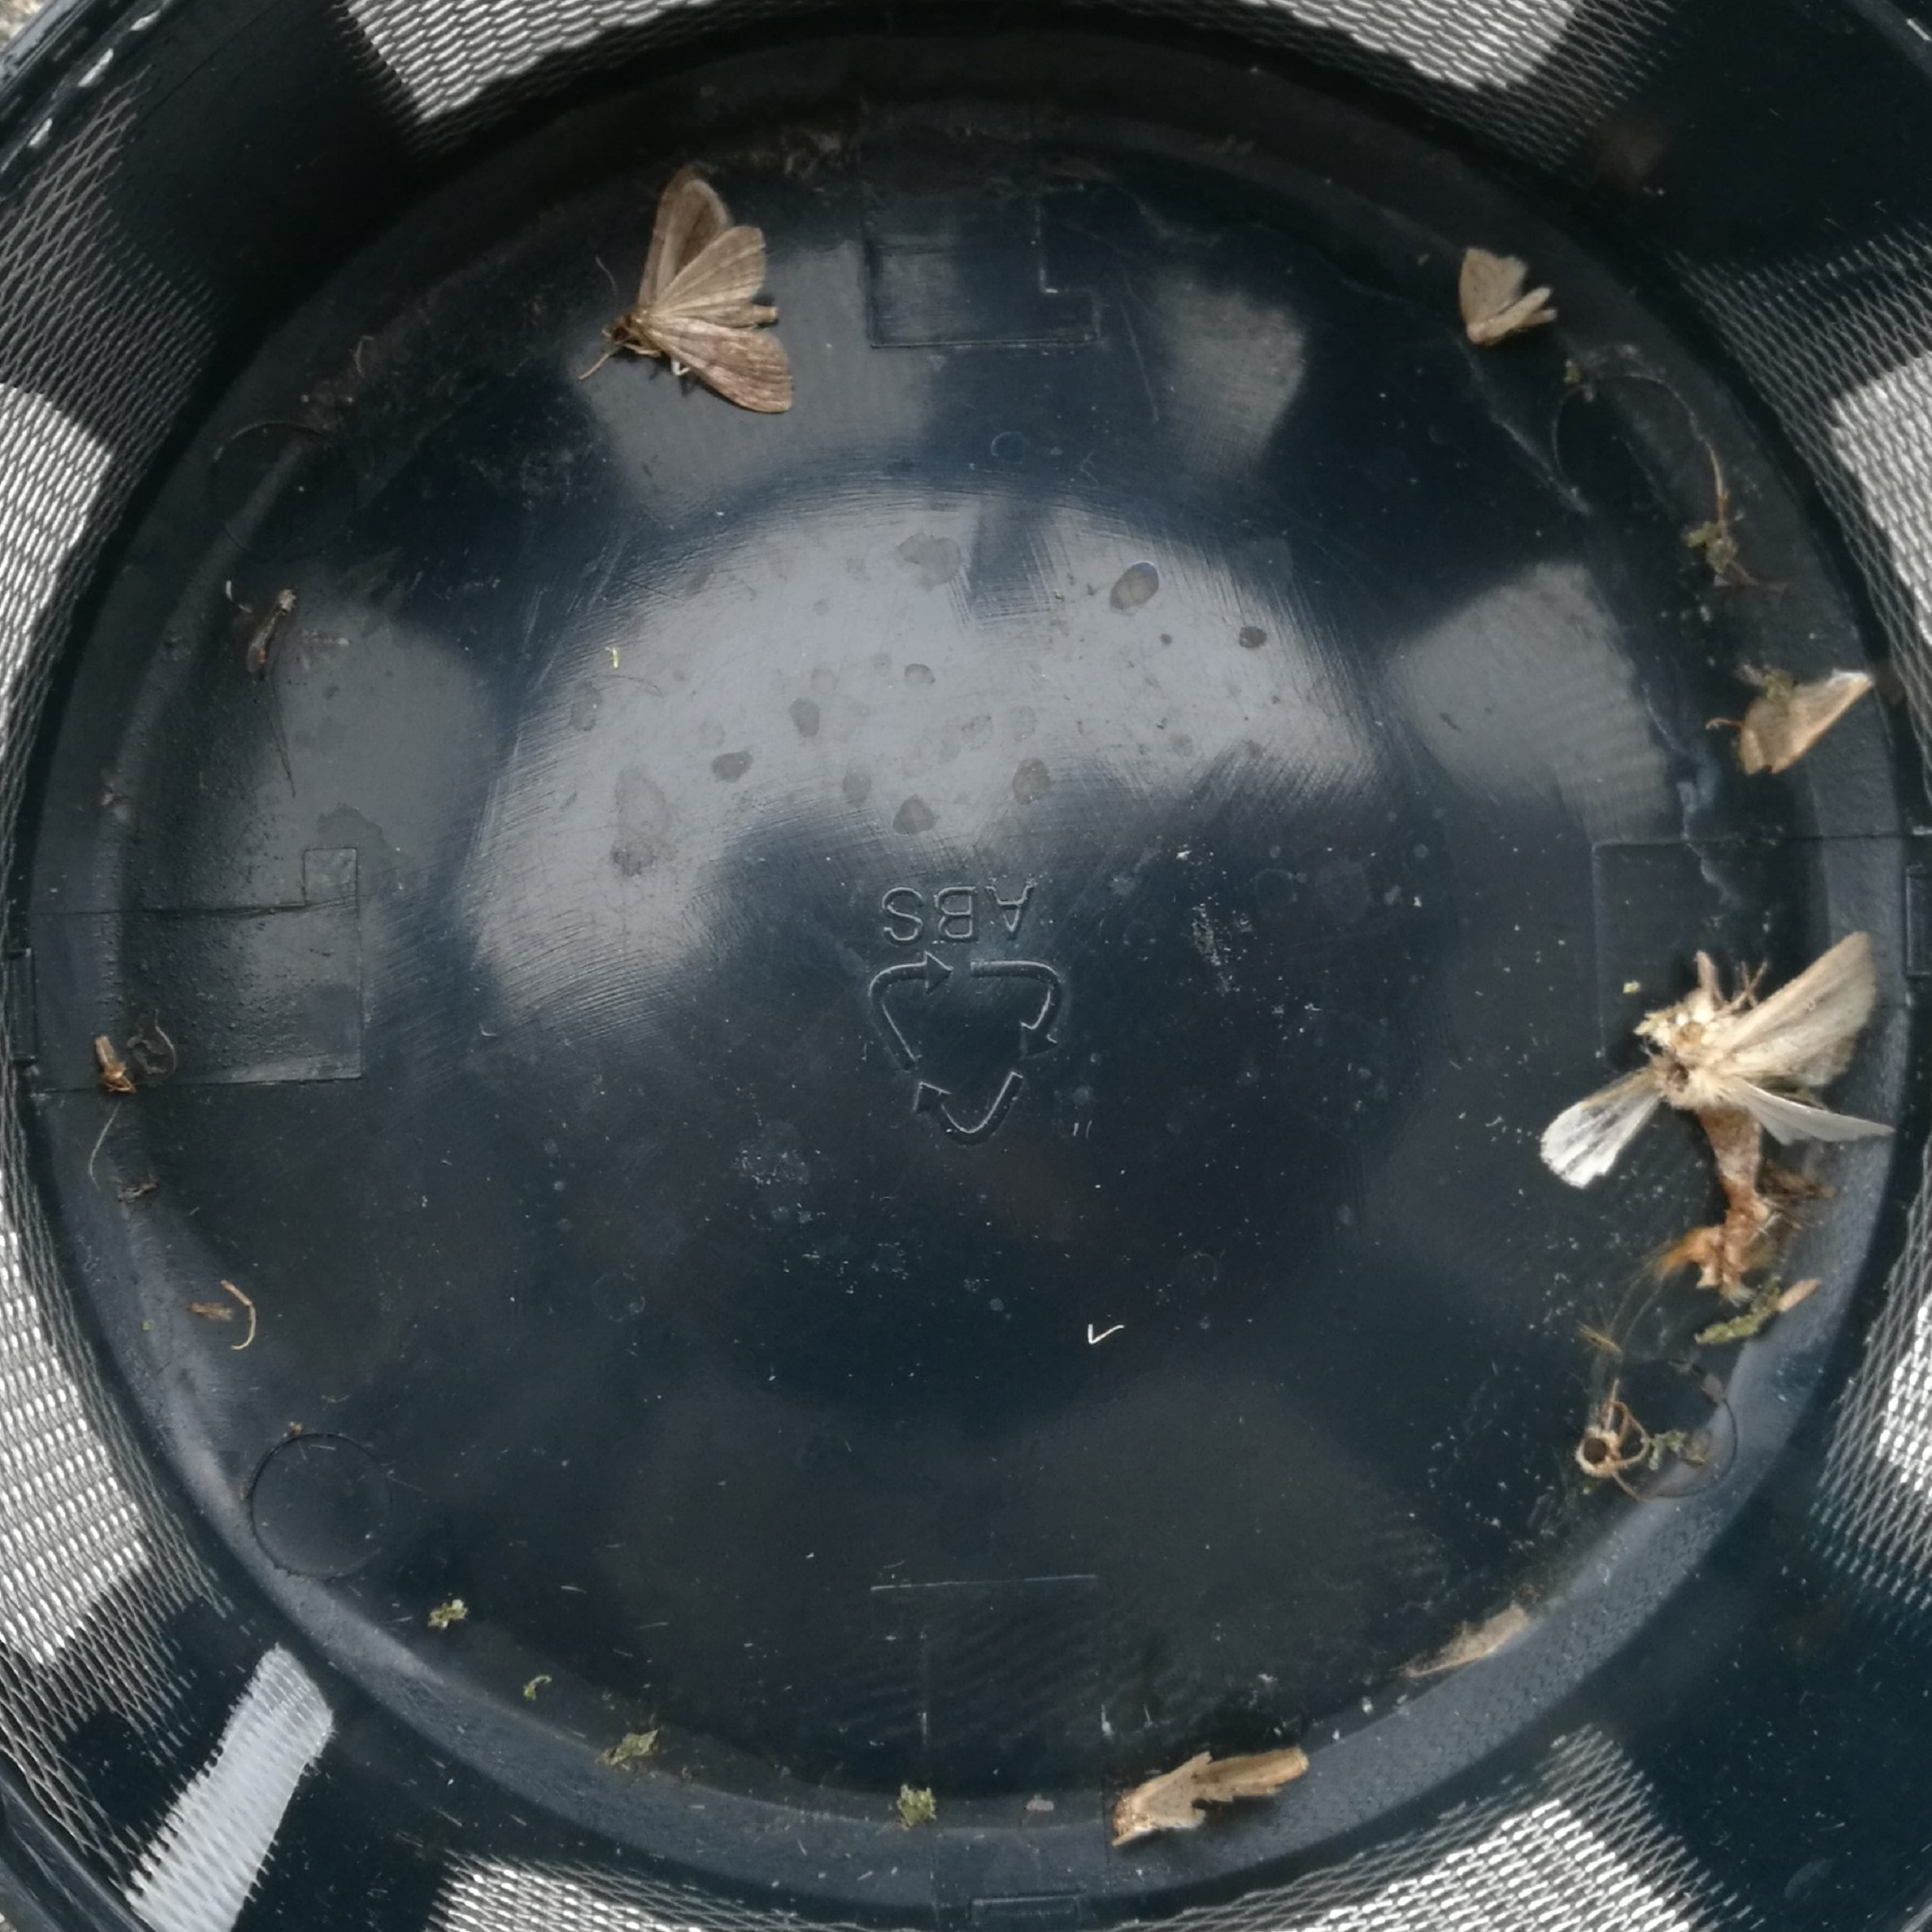moth: (1543, 929, 1900, 1200), (598, 170, 794, 412), (1463, 249, 1553, 345)
